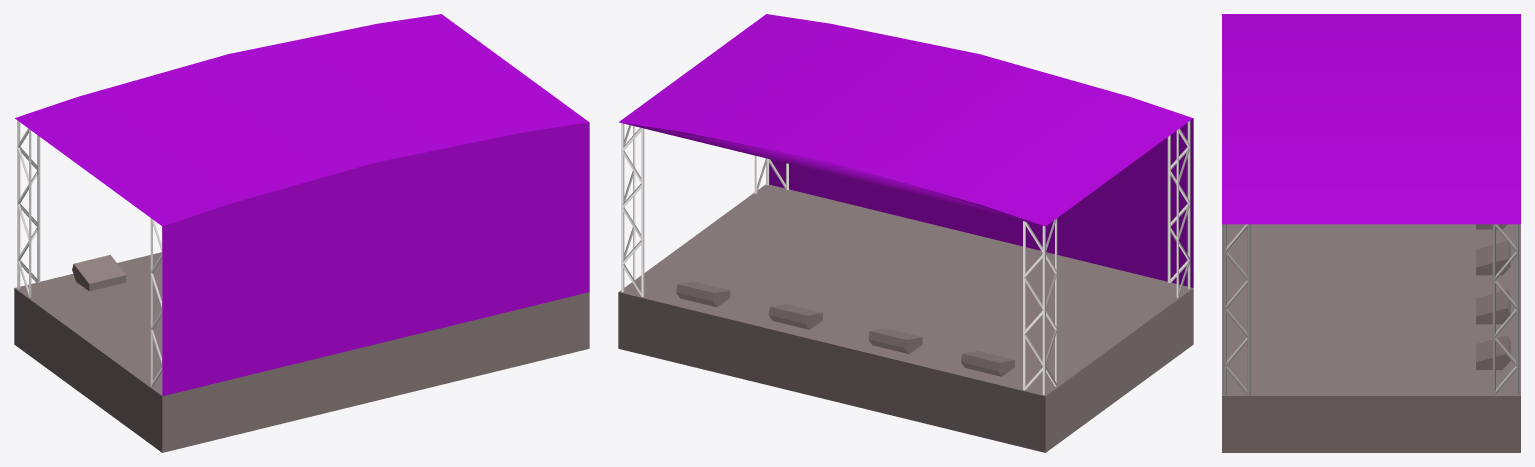
Rendered from Stage 1.fbx.
The picture shows the model from 3 angles, left to right: view 1: azimuth 30°, elevation 25°; view 2: azimuth 150°, elevation 25°; view 3: azimuth 270°, elevation 25°; orthographic projection.
Parts seen in each view (by area): view 1: stan, podium, sloupy; view 2: podium, stan, sloupy; view 3: podium, stan, sloupy.
Part boxes in pixels (bbox=[...]): stan: bbox=[15, 14, 589, 396]; podium: bbox=[14, 252, 589, 452]; sloupy: bbox=[17, 120, 162, 394]; podium: bbox=[618, 184, 1193, 452]; stan: bbox=[619, 14, 1193, 287]; sloupy: bbox=[621, 120, 1190, 394]; podium: bbox=[1222, 224, 1520, 452]; stan: bbox=[1222, 14, 1520, 224]; sloupy: bbox=[1223, 224, 1519, 394].
Bounding box in the file's own units: 30000 × 16000 × 18000.
